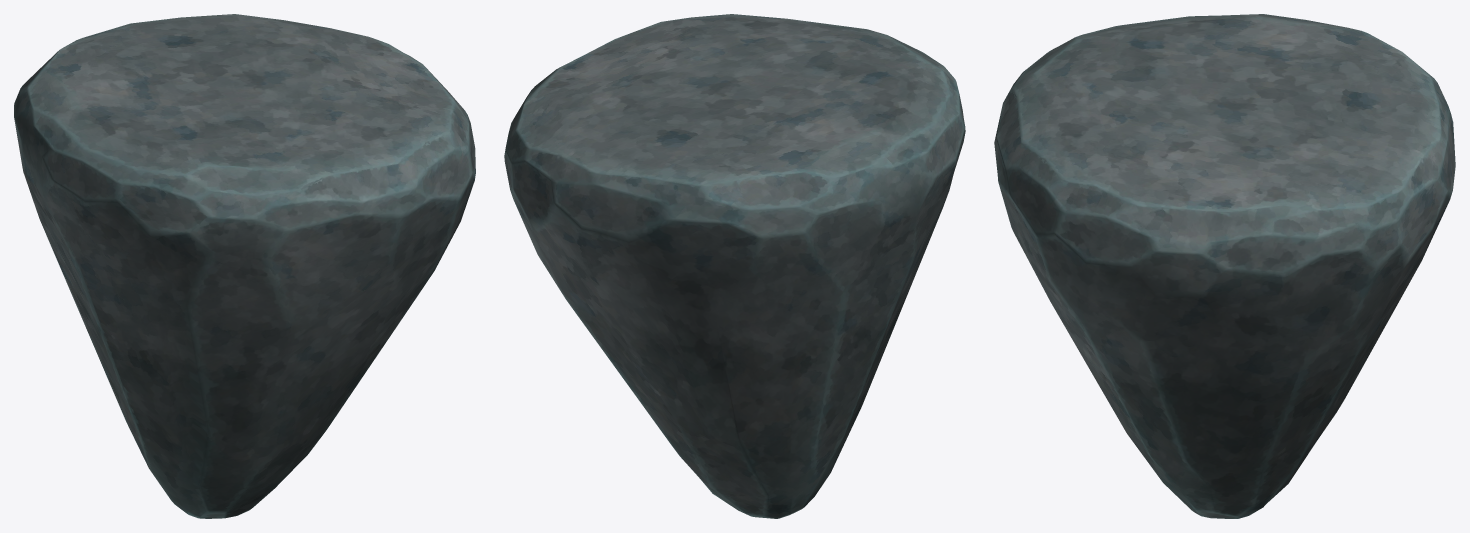
Rendered from Rock_6.fbx.
3 renders of one model, left to right at view 1: azimuth 30°, elevation 25°; view 2: azimuth 150°, elevation 25°; view 3: azimuth 270°, elevation 25°, orthographic. The views are drawn at different scales.
Visible parts, largest first — view 1: Rock_6; view 2: Rock_6; view 3: Rock_6.
Part boxes in pixels (<box>): Rock_6: <box>14,14,475,518</box>; Rock_6: <box>504,14,965,518</box>; Rock_6: <box>994,14,1455,518</box>.
Bounding box in the file's own units: 143 × 148 × 142.
